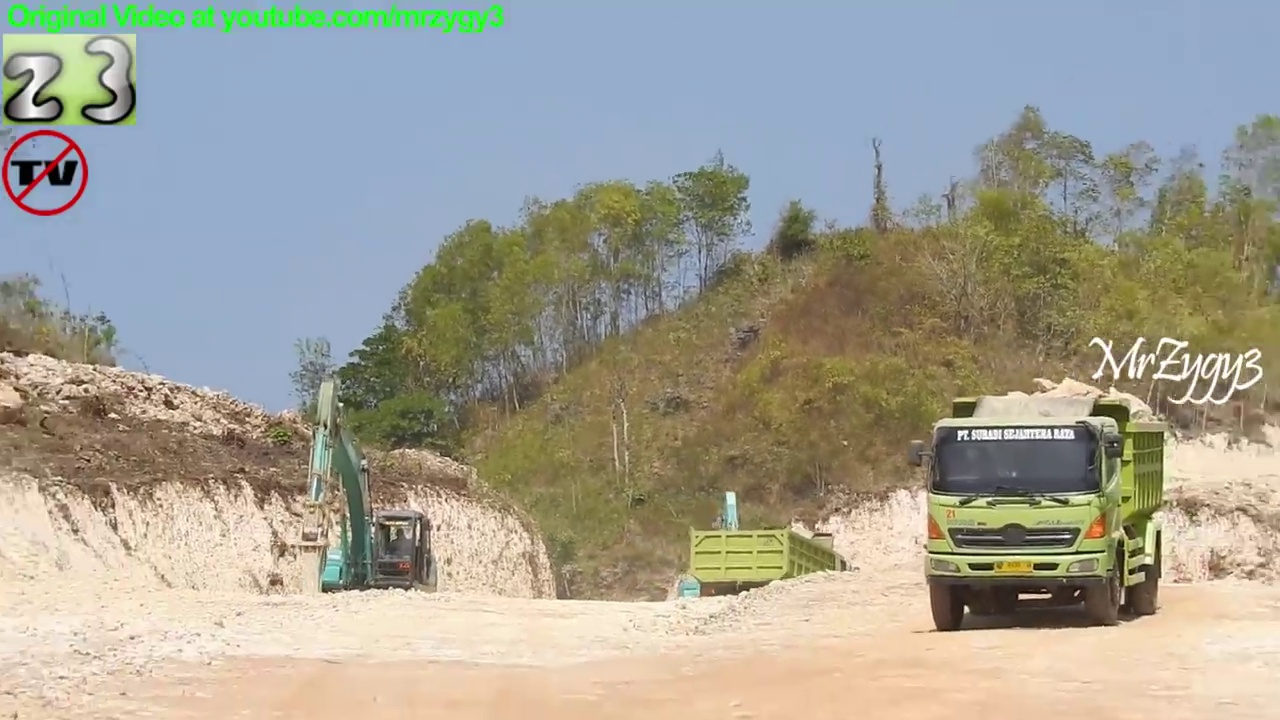excavator: (284, 369, 444, 626), (667, 482, 779, 621)
truck: (906, 386, 1172, 638), (684, 526, 865, 614)
